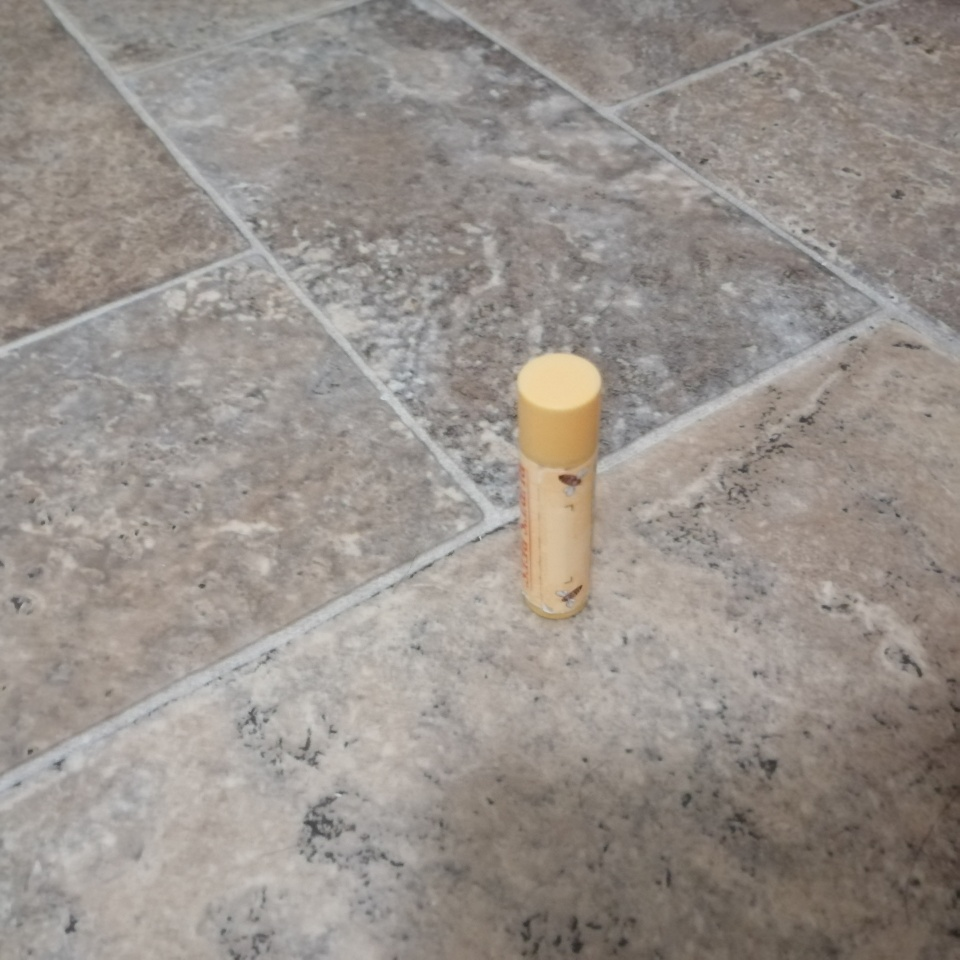chapstick: (517, 353, 602, 618)
